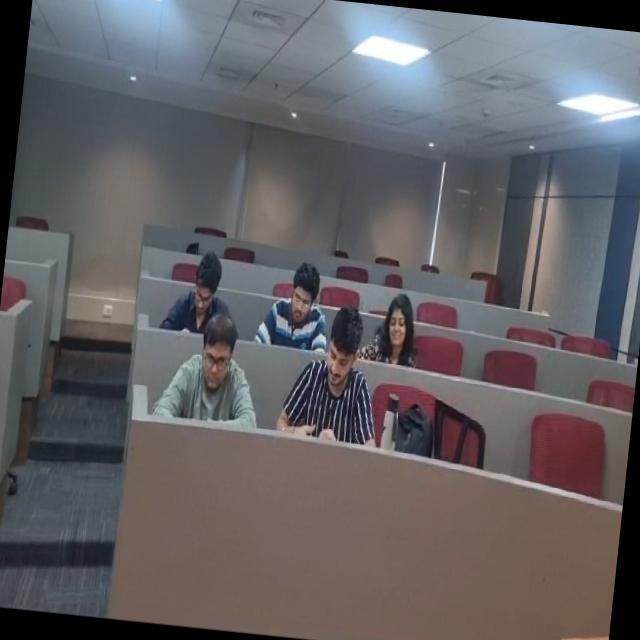cheating: (290, 306, 378, 452), (169, 302, 260, 432)
non-cheating: (158, 248, 236, 330), (262, 265, 330, 350), (364, 282, 426, 368)
